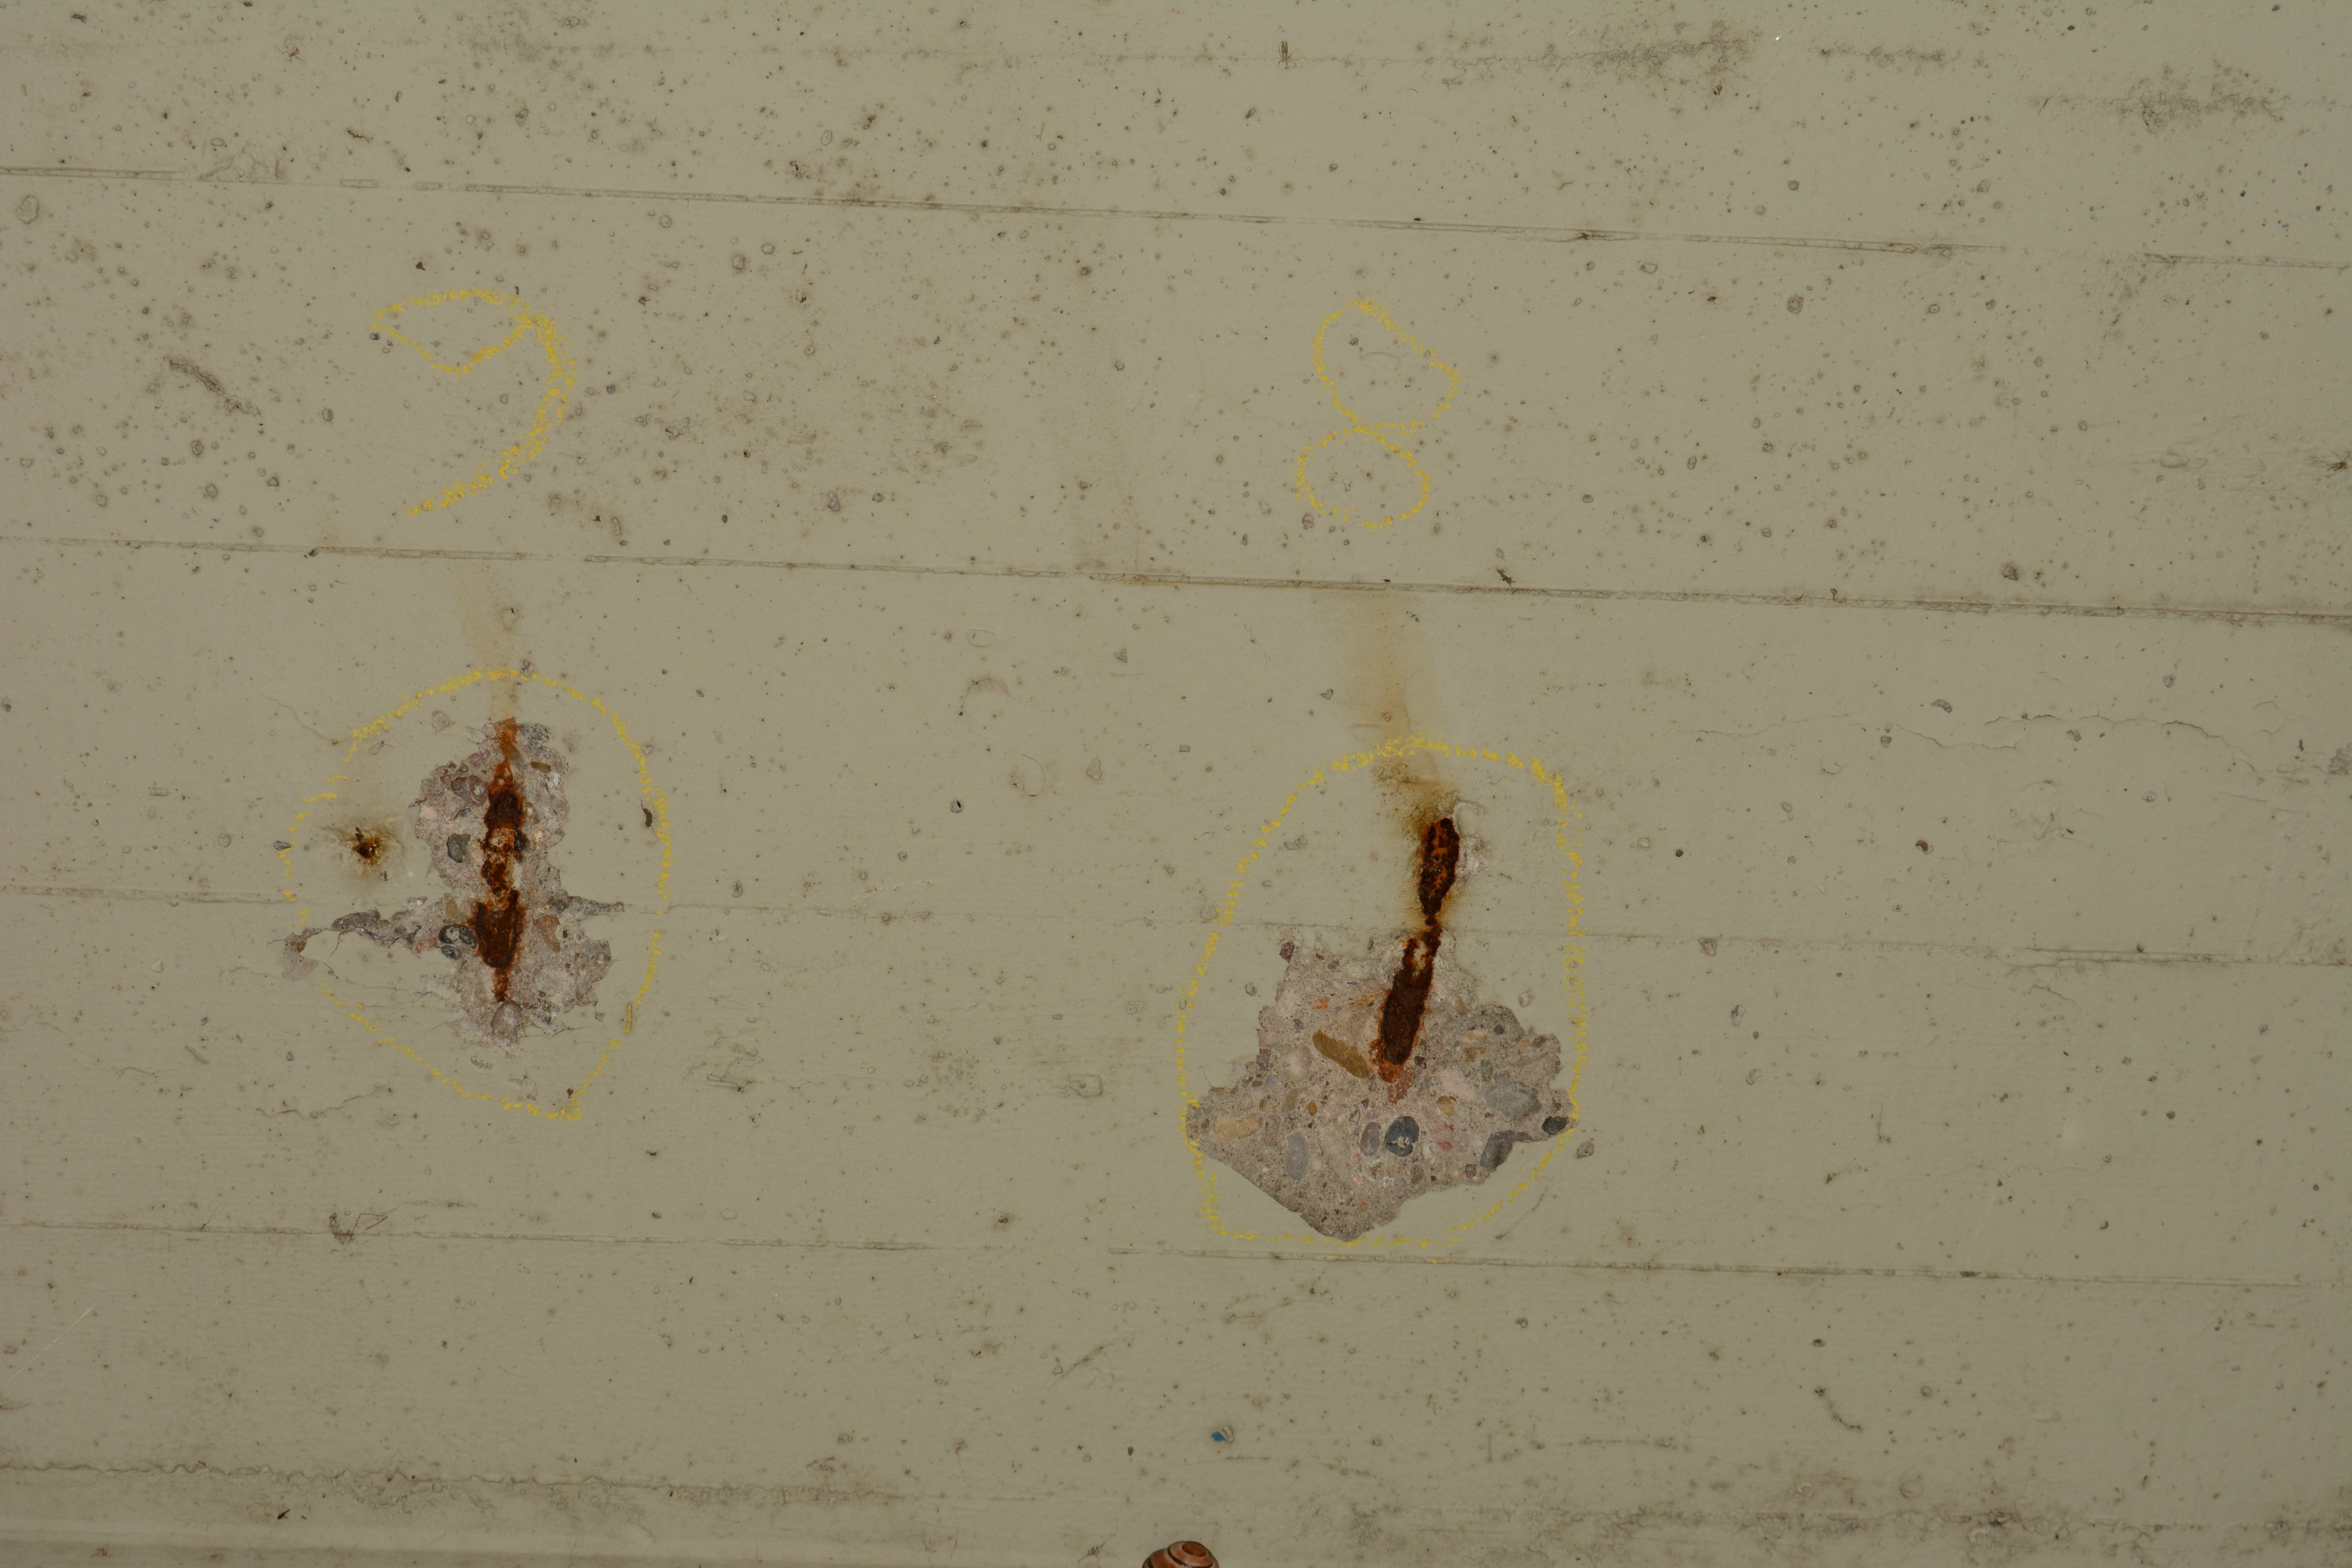Corrosion: (492, 717, 518, 789), (352, 826, 385, 861), (492, 968, 507, 1003)
Exposed reinforcement: (1381, 817, 1461, 1066), (476, 789, 521, 968)
Spalling: (1185, 929, 1578, 1243), (285, 717, 626, 1045)
